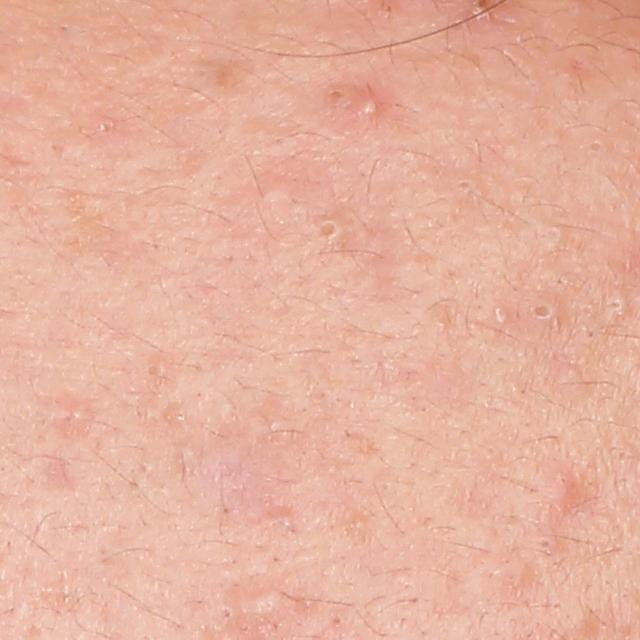comedo: (242, 584, 285, 627), (260, 183, 295, 208), (323, 84, 350, 106), (317, 216, 339, 241), (61, 407, 89, 425), (215, 604, 237, 625), (492, 306, 513, 328), (98, 121, 113, 135), (539, 533, 551, 550)
papule: (545, 464, 581, 506)
